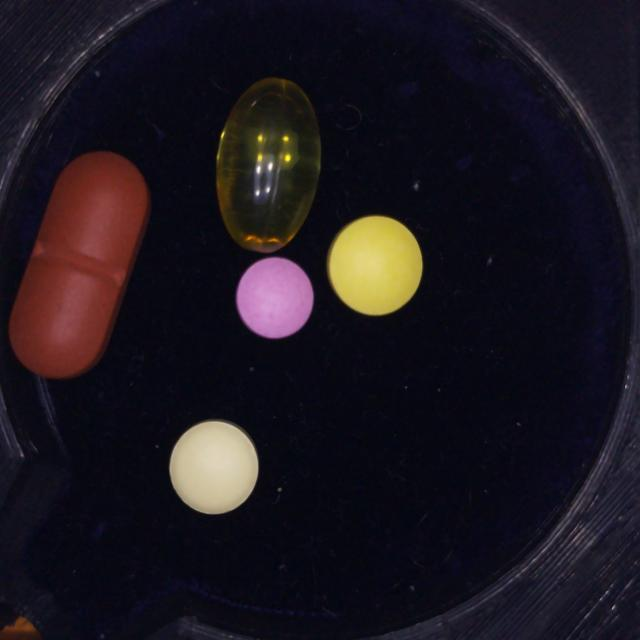Pill: (9, 152, 150, 379), (216, 78, 321, 253), (327, 215, 423, 316), (169, 419, 258, 514), (235, 257, 314, 339)
